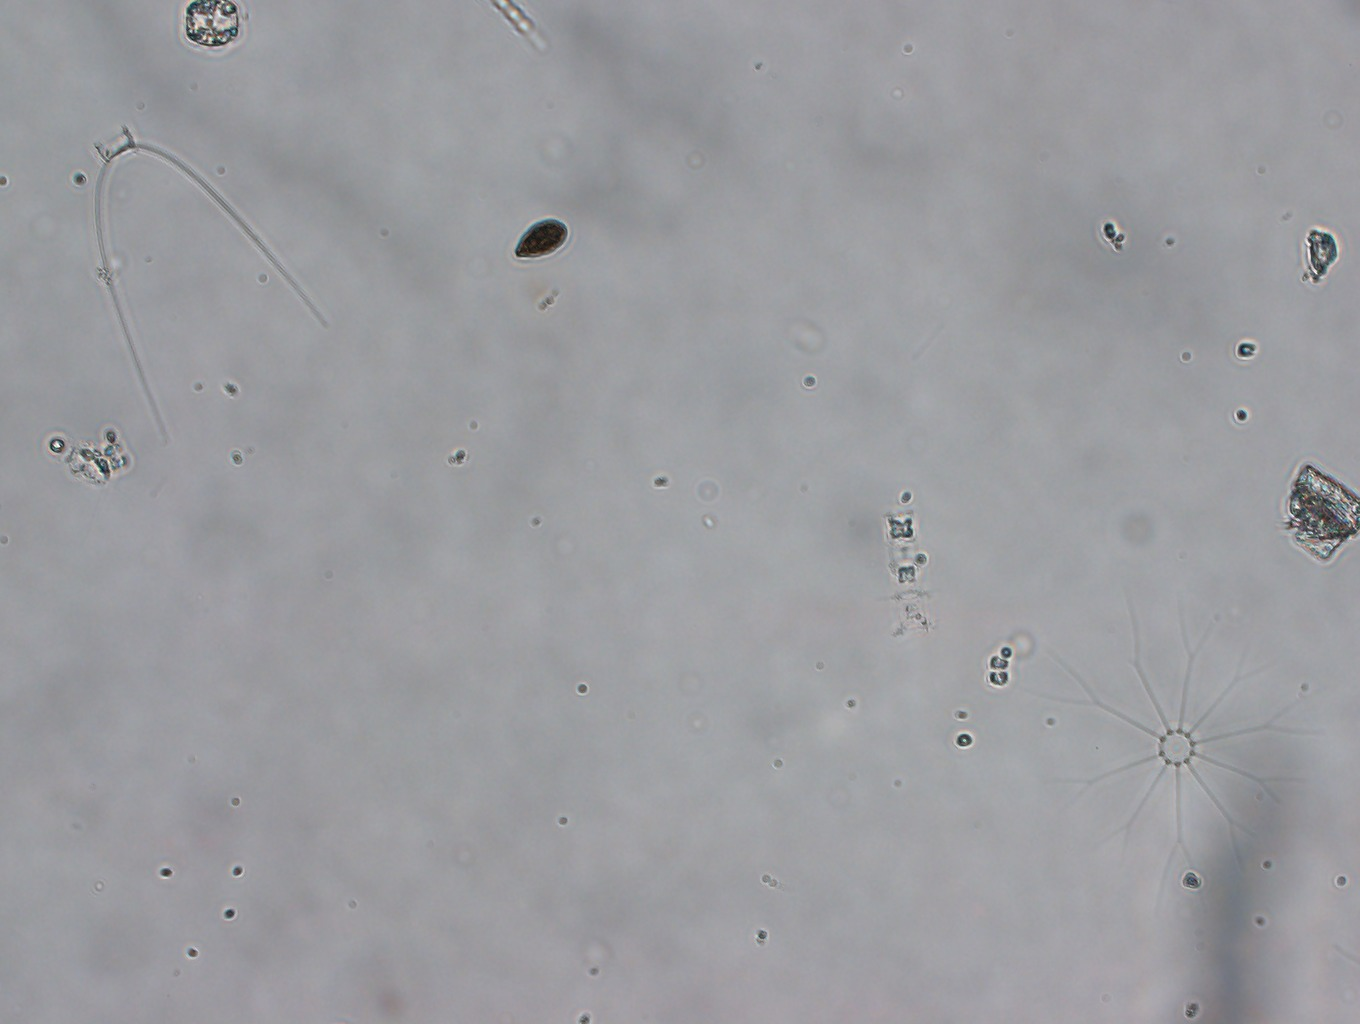bacteriastrum: (1043, 600, 1330, 892)
chaetoceros: (76, 119, 331, 457)
